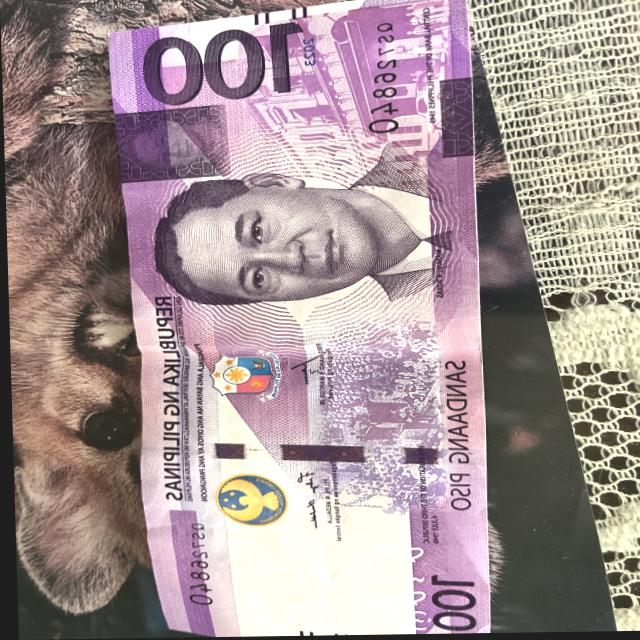concealed_value: (113, 106, 231, 184)
security_thread: (137, 440, 479, 471)
see_through_mark: (400, 546, 431, 633)
serial_number: (356, 17, 402, 144), (182, 523, 212, 611)
value: (134, 20, 306, 108)
value_watermark: (312, 615, 370, 632)
